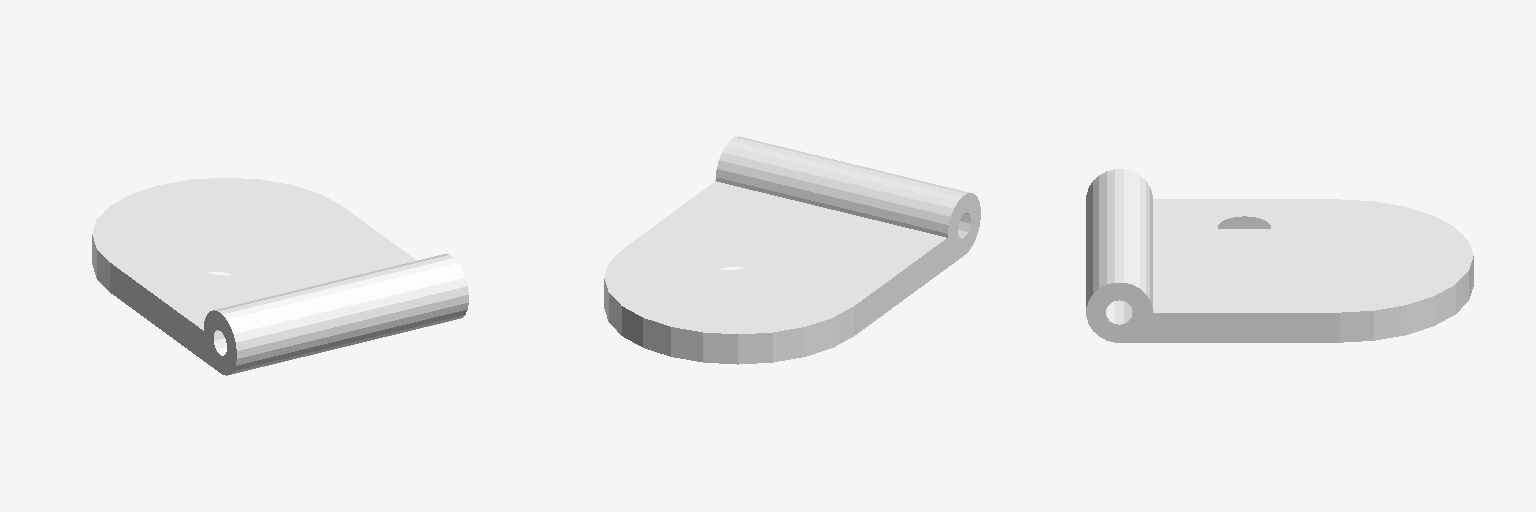
The model's file is original-16.obj.
3 renders of one model, left to right at view 1: azimuth 30°, elevation 25°; view 2: azimuth 150°, elevation 25°; view 3: azimuth 270°, elevation 25°, orthographic.
Parts seen in each view (by area): view 1: #ID100; view 2: #ID100; view 3: #ID100.
Boxes of the visible parts, x1=… form: #ID100: x1=92, y1=178, x2=468, y2=375; #ID100: x1=604, y1=136, x2=980, y2=364; #ID100: x1=1086, y1=169, x2=1473, y2=342.
Bounding box in the file's own units: 0.0301 × 0.0075 × 0.0435.